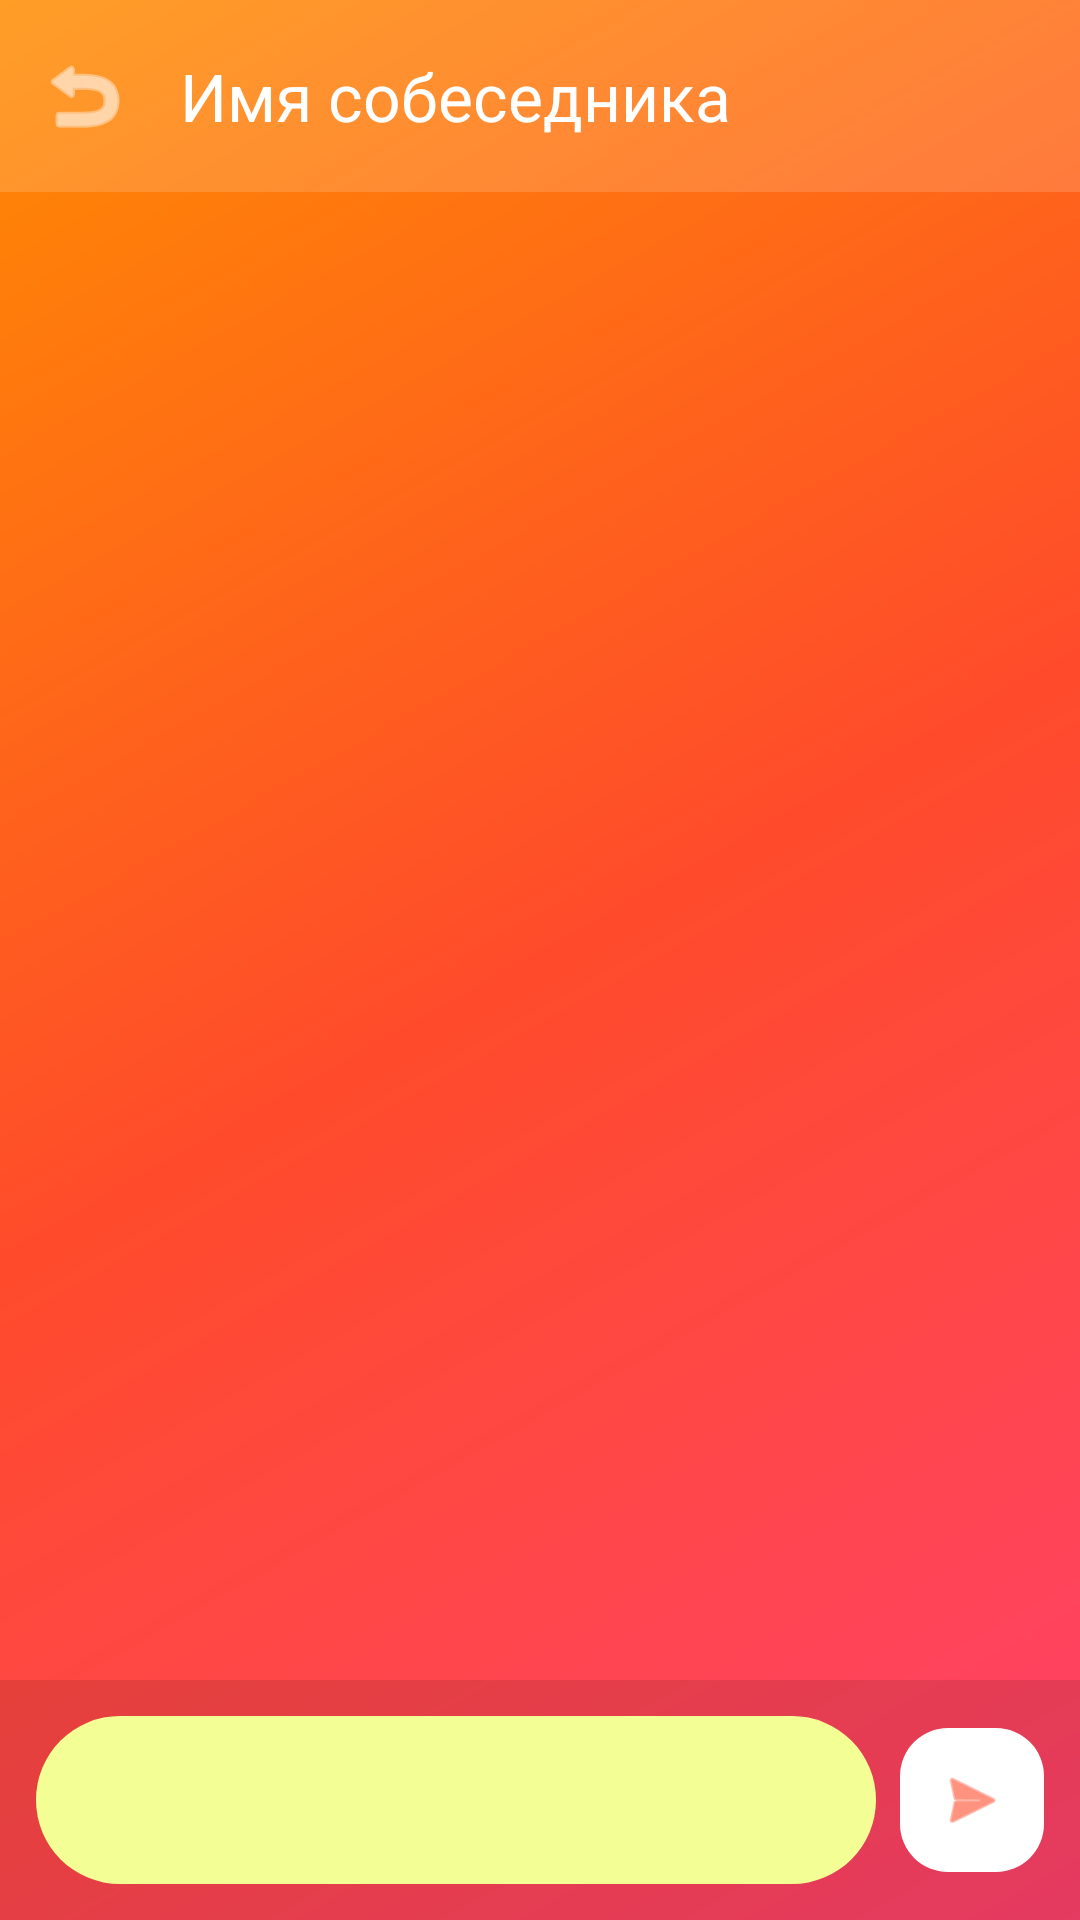

Screen size 1080 × 1920. Icon name, then its center in pixels as (x=x, y=y):
send: (x=972, y=1800)
